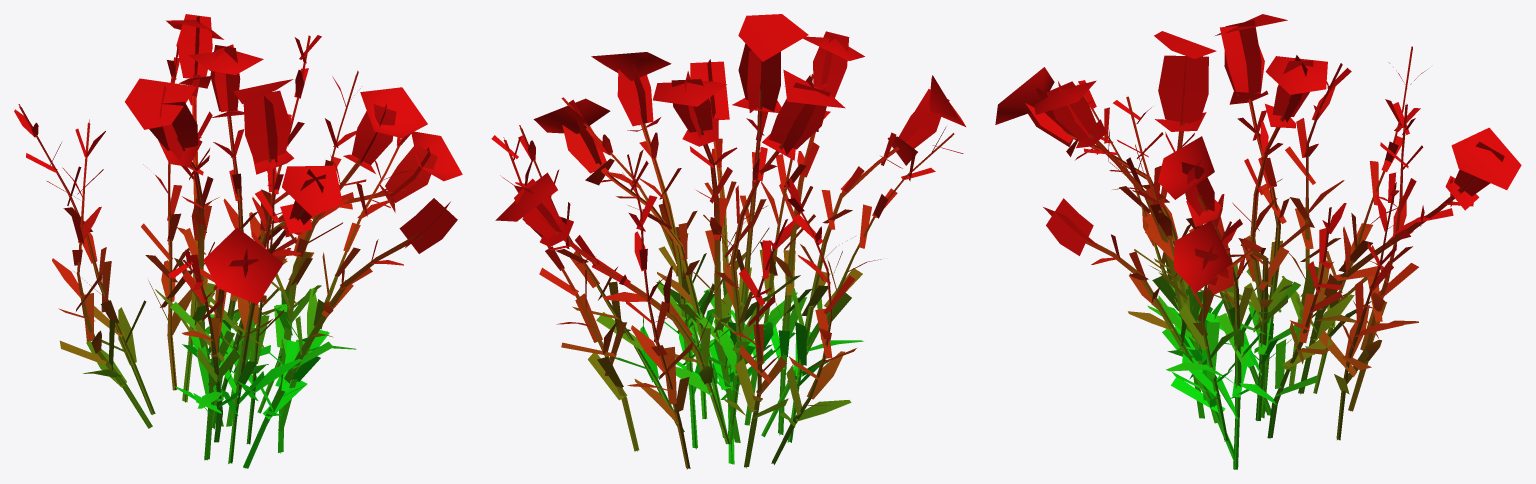
File: Var3_LOD3.fbx
3 renders of one model, left to right at view 1: azimuth 30°, elevation 25°; view 2: azimuth 150°, elevation 25°; view 3: azimuth 270°, elevation 25°, orthographic. The views are drawn at different scales.
Visible parts, largest first — view 1: _m10g_Var3_LOD3; view 2: _m10g_Var3_LOD3; view 3: _m10g_Var3_LOD3.
Part boxes in pixels (bbox=[...]): _m10g_Var3_LOD3: bbox=[14, 14, 462, 468]; _m10g_Var3_LOD3: bbox=[491, 14, 965, 469]; _m10g_Var3_LOD3: bbox=[995, 14, 1521, 469].
Bounding box in the file's own units: 22.72 × 25.35 × 28.82.
